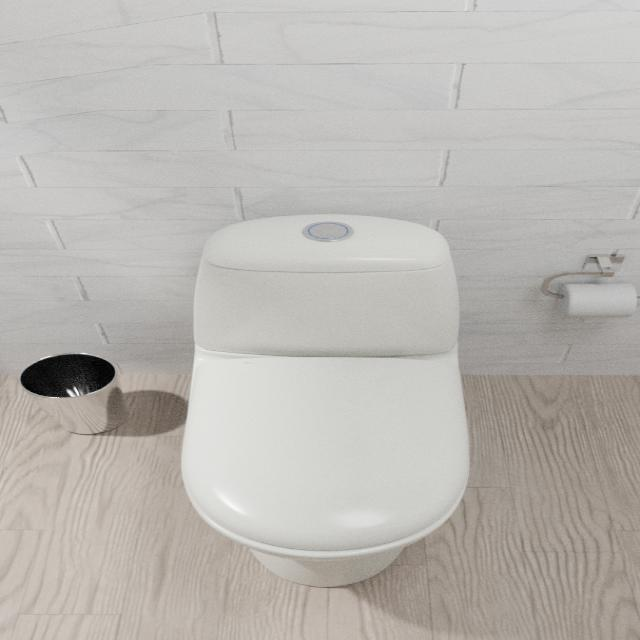toilet: (178, 212, 471, 587)
